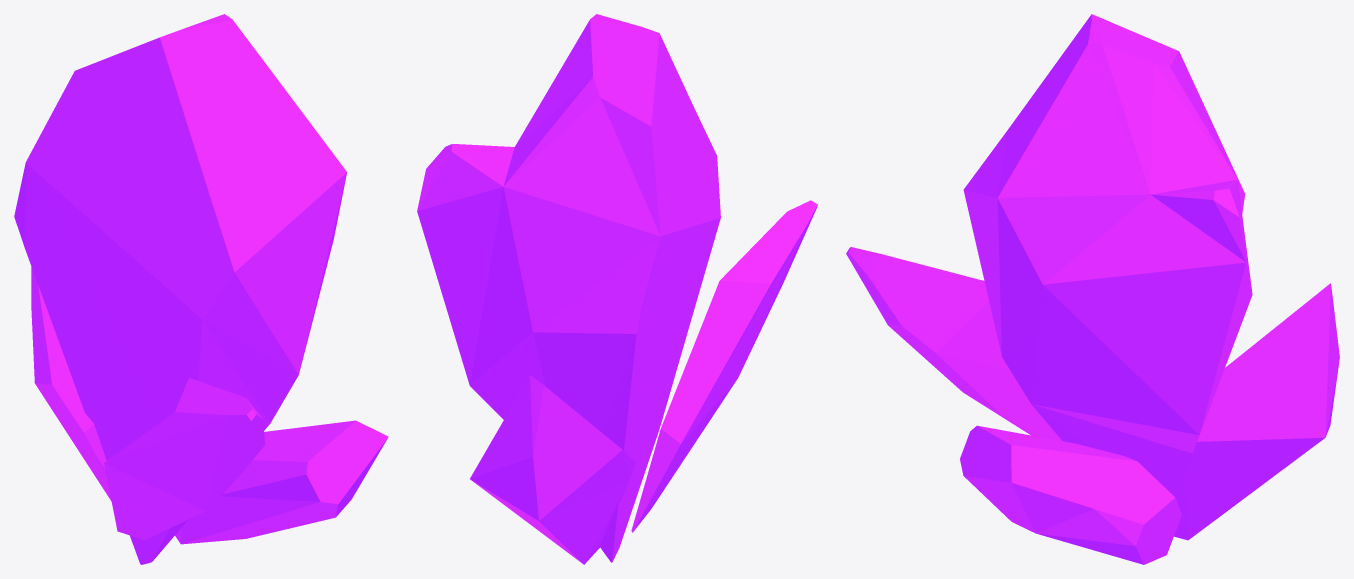
Rendered from Mineral.fbx.
3 views of the same model, side by side, from view 1: azimuth 30°, elevation 25°; view 2: azimuth 150°, elevation 25°; view 3: azimuth 270°, elevation 25° (orthographic). The views are drawn at different scales.
Visible parts, largest first — view 1: mineral posterior; view 2: mineral posterior; view 3: mineral posterior.
Part boxes in pixels (x1,y1,x2,y2): mineral posterior: (14, 14, 388, 564); mineral posterior: (417, 14, 817, 564); mineral posterior: (846, 14, 1339, 564).
Size of the model in its own units: 0.4662 by 0.9823 by 0.8454.
